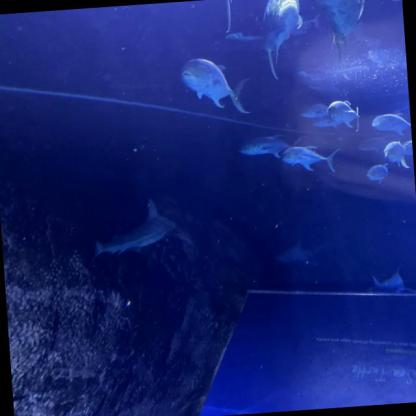fish: (180, 54, 252, 118), (259, 0, 307, 82), (312, 0, 369, 60), (238, 132, 309, 160), (281, 143, 341, 175), (326, 99, 361, 134), (370, 112, 411, 138), (384, 140, 410, 169), (357, 134, 391, 154), (364, 162, 390, 186), (299, 103, 328, 119), (313, 115, 343, 130)
shark: (85, 196, 195, 262), (273, 236, 326, 270), (366, 266, 415, 298)
